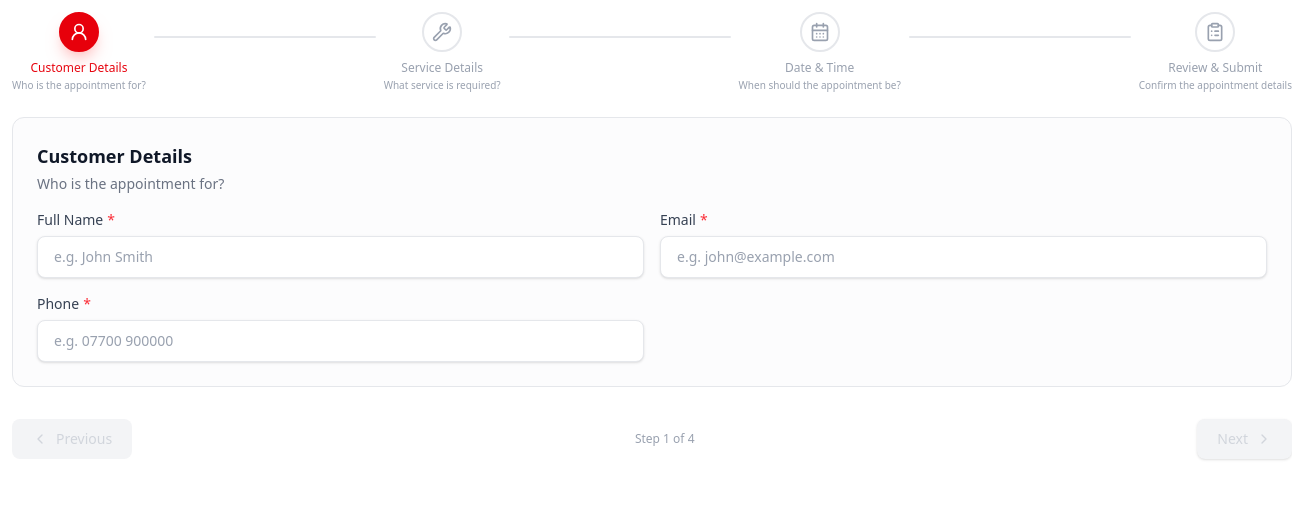
Scenario: AppointmentForm Component › Full End-to-End Flow › preserves data when navigating back
Type "Alice" into the field with placeholder "e.g. John Smith" at (340, 257), box [37,236,644,278]
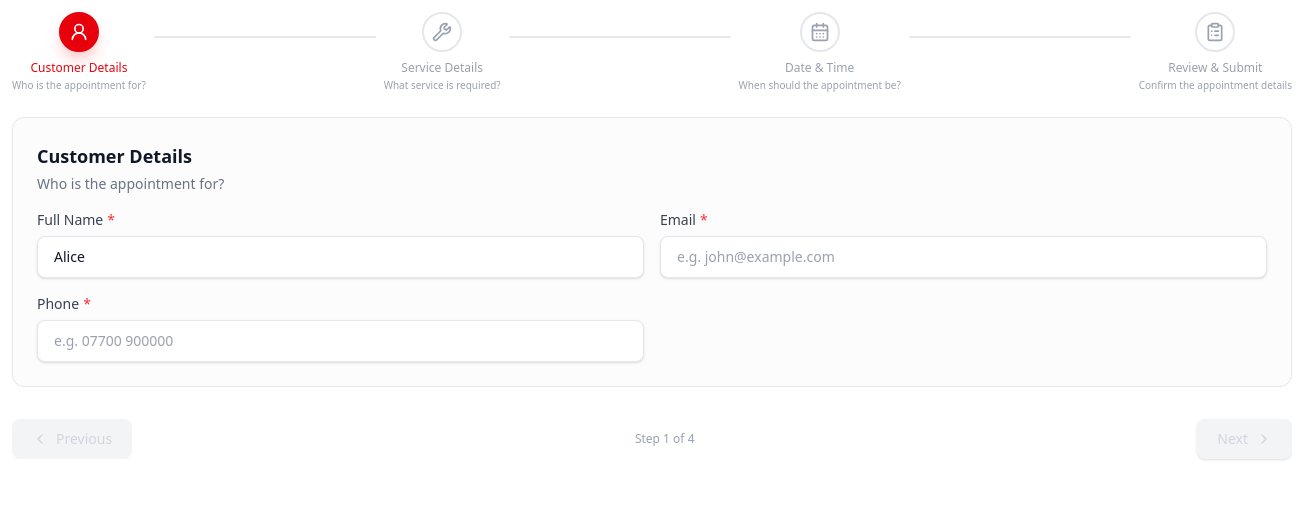
Type "alice@example.com" into the field with placeholder "e.g. john@example.com" at (964, 257), box [660,236,1267,278]
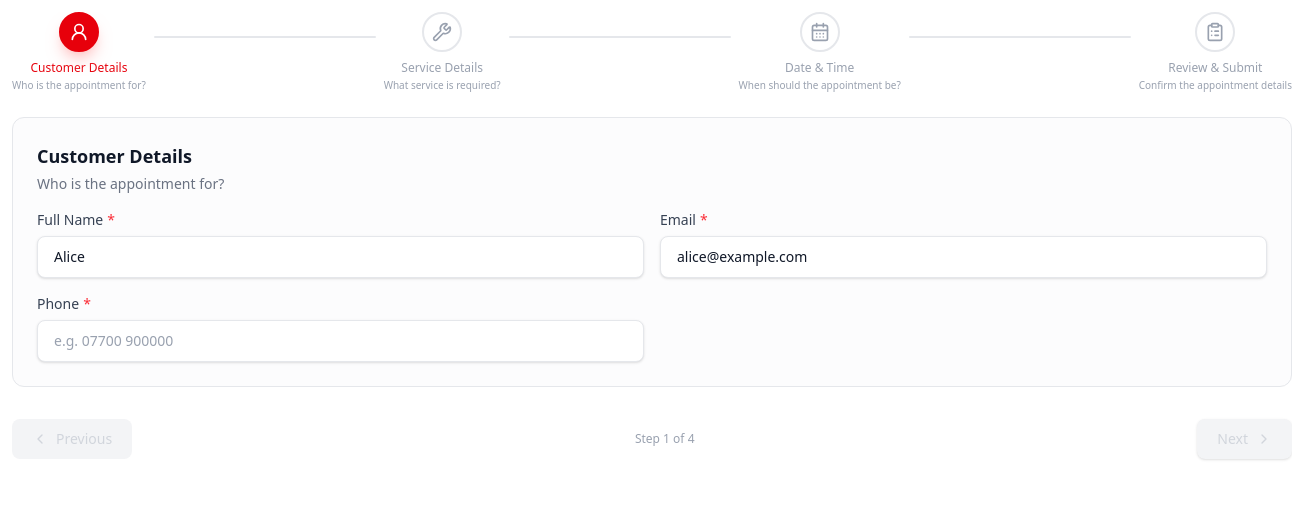
Type "07700 111111" into the field with placeholder "e.g. 07700 900000" at (340, 341), box [37,320,644,362]
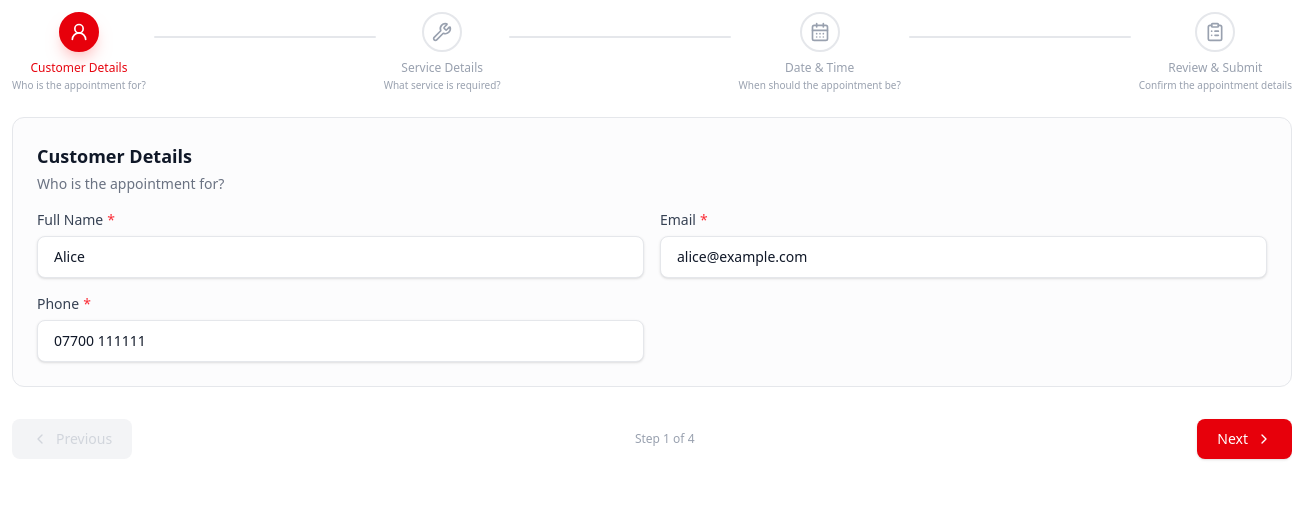
Click the button "Next" at (1245, 439), box [1197,419,1292,459]
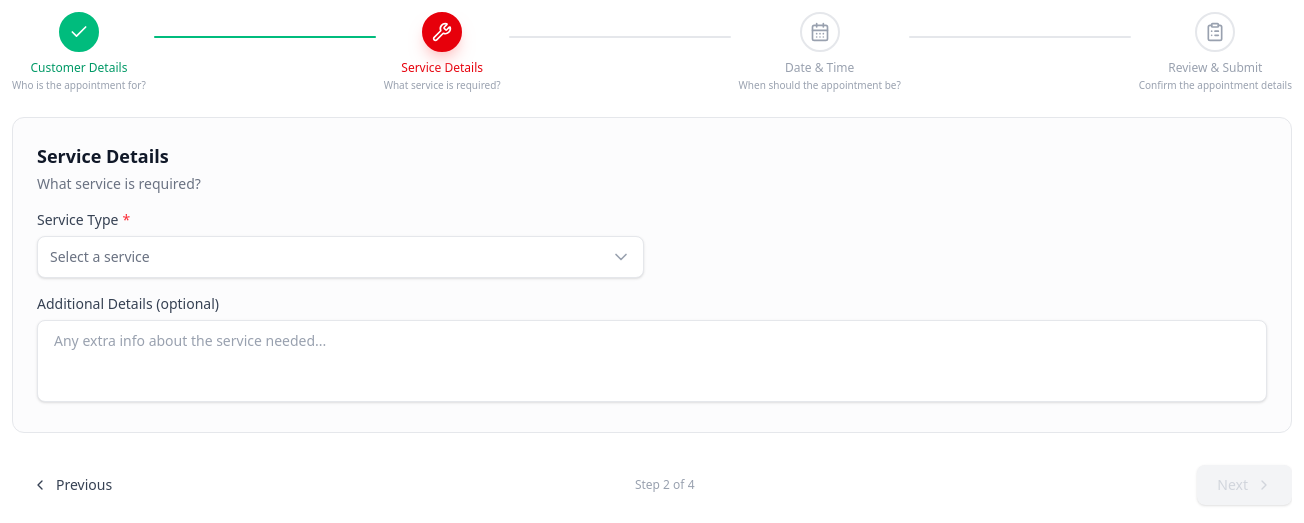
Click the button "Previous" at (72, 485), box [12,465,132,505]
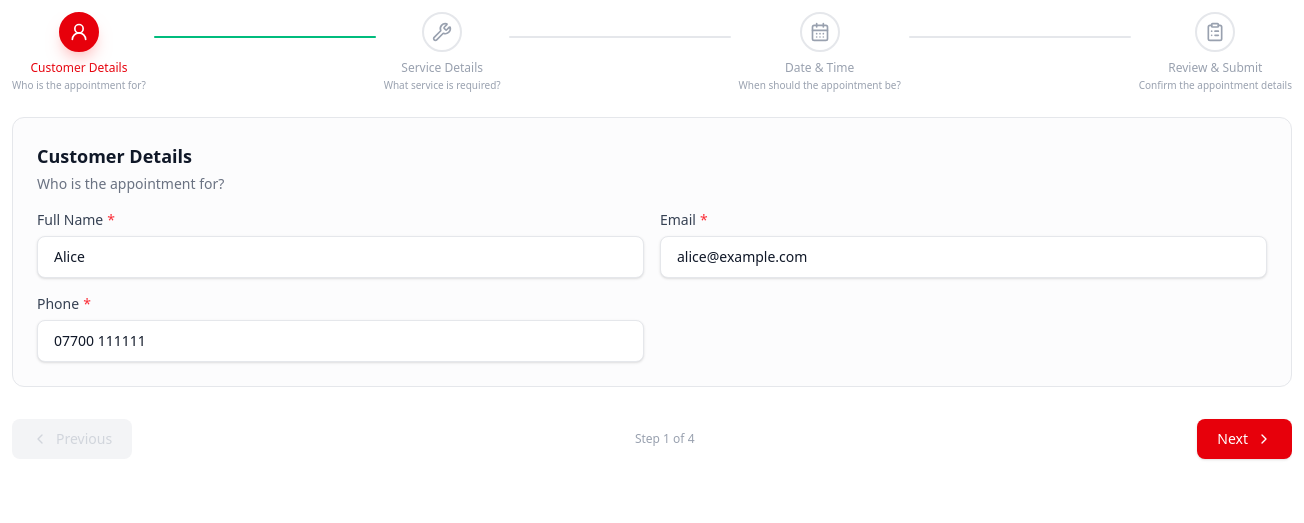
expect the field with placeholder "e.g. John Smith" holds "Alice": met, box [37,236,644,278]
expect the field with placeholder "e.g. john@example.com" holds "alice@example.com": met, box [660,236,1267,278]
